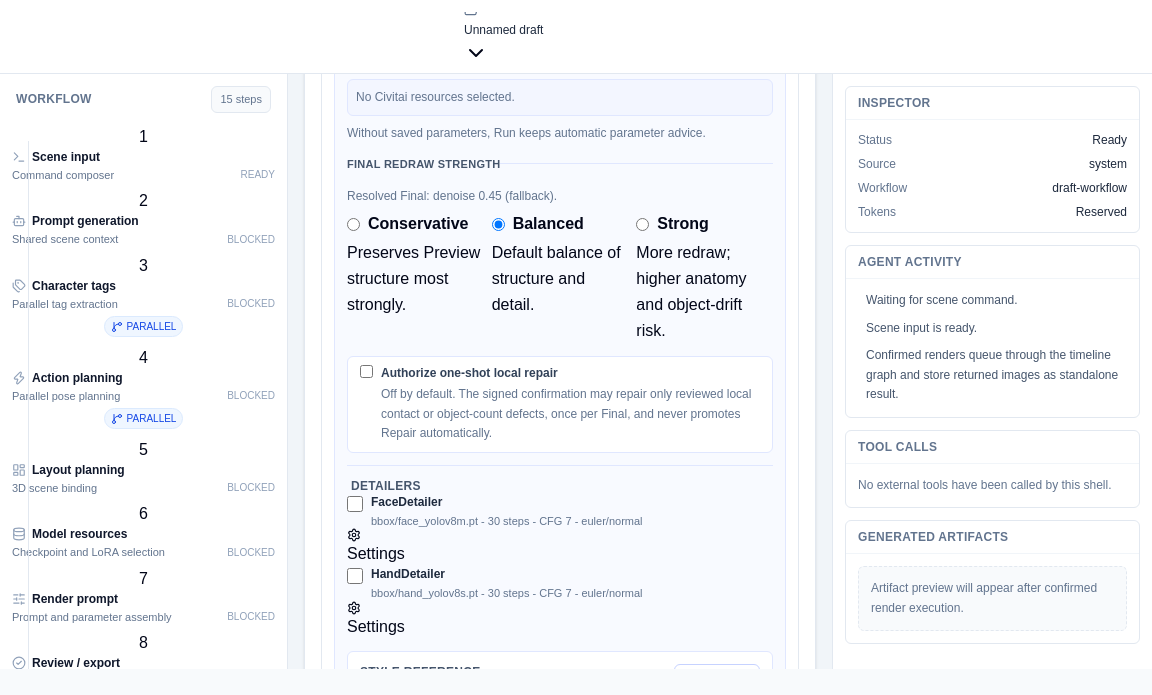
Test case: TimelineShell › switches detailed Run composer to Krea staged preview and img2img controls
The width and height of the screenshot is (1152, 695).
(page scrolled)
Click the 1st checkbox. click: (366, 372)
box: [360,365,373,378]
(page scrolled)
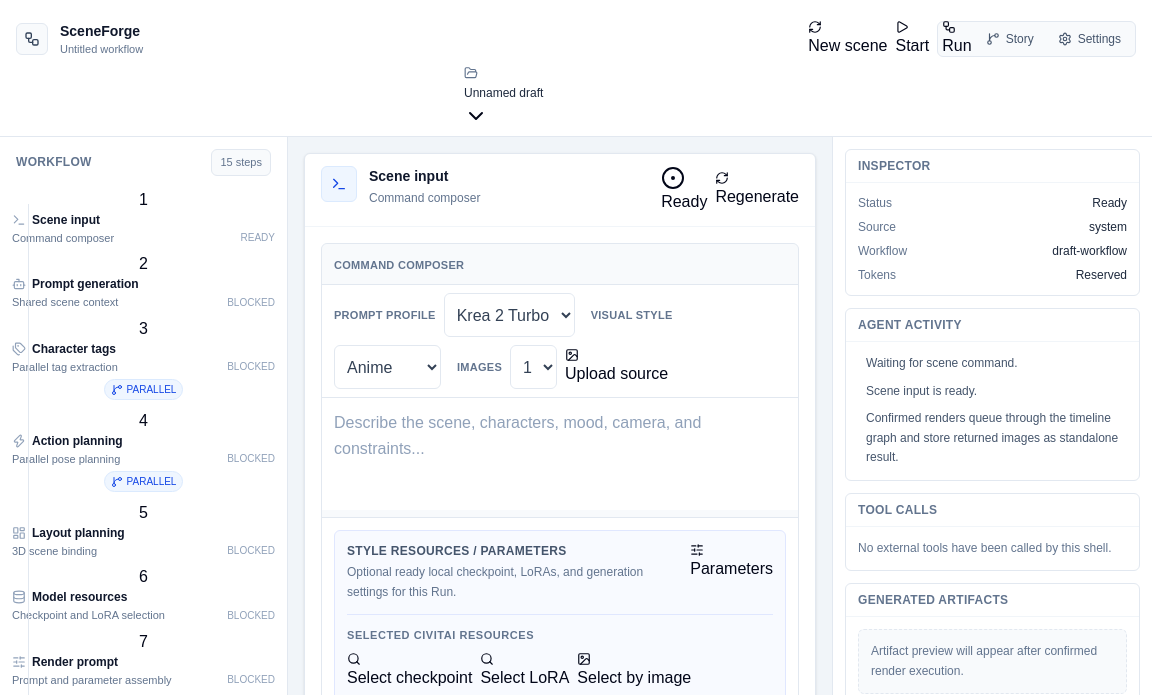
Select "Krea 2 Turbo" in the dropdown labelled "Prompt profile". click: (509, 315)
box: [444,293,575,337]
(page scrolled)
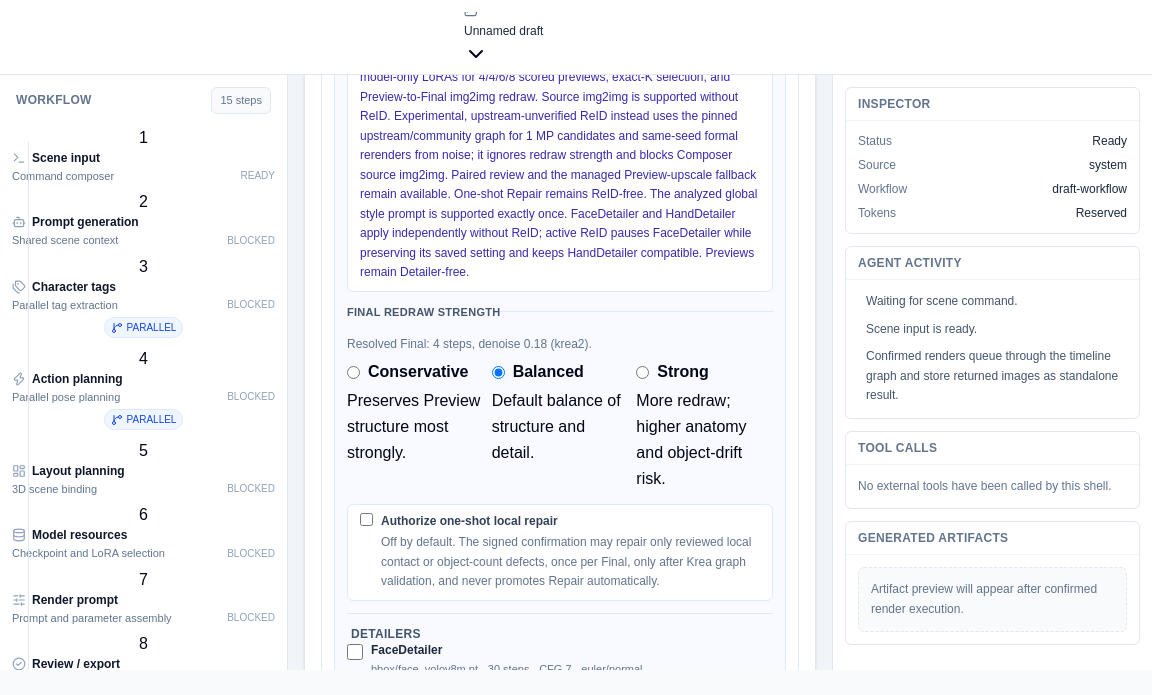
Expected: the text "Krea 2 Turbo uses its fixed local UNet" is shown, [360,75,757,279]
Expected: the text "4/4/6/8 scored previews, exact-K selection, and Preview-to-Final img2img redraw." is shown, [360,75,757,279]
Expected: the text "Paired review and the managed Preview-upscale fallback remain available." is shown, [360,75,757,279]
Click the radio button named "final-redraw-strength". click: (643, 372)
box: [636,366,649,378]
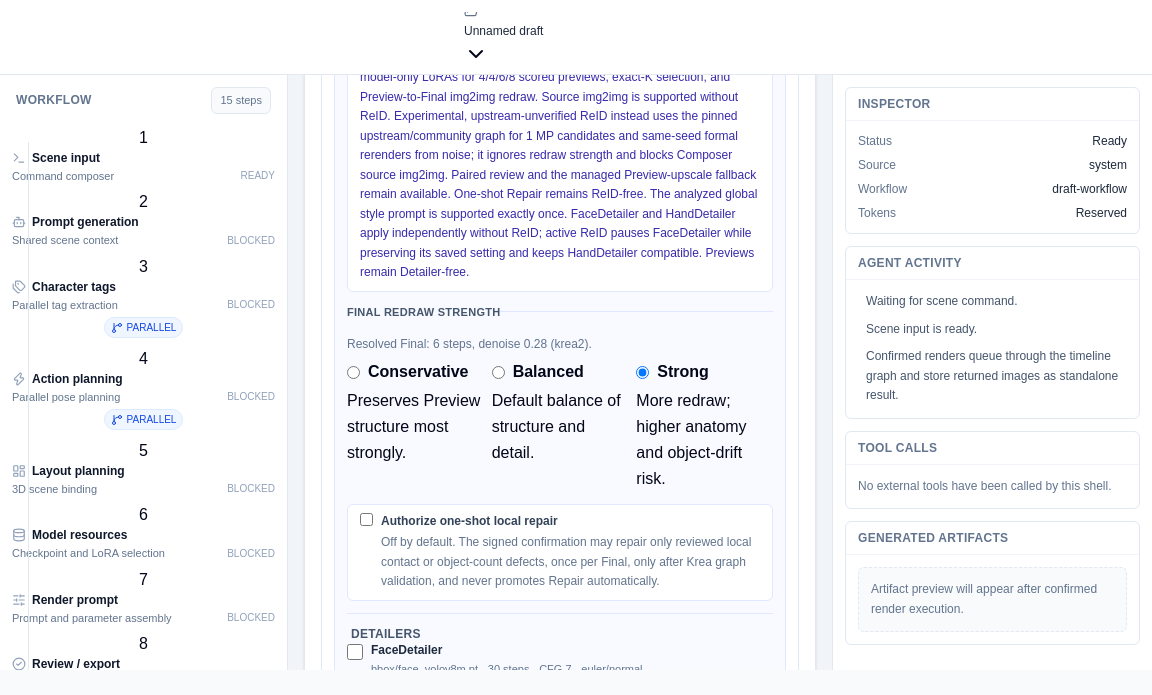
Expected: the radio button named "final-redraw-strength" is checked, [636,366,649,378]
Expected: the 1st checkbox is not checked, [360,513,373,526]
Expected: the text "Resolved Final: 6 steps, denoise 0.28 (krea2)." is shown, [347,337,592,351]
